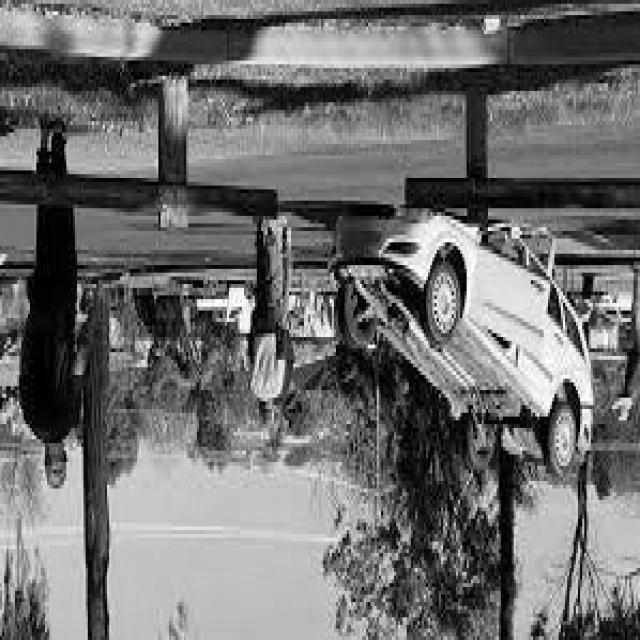severe: (327, 225, 600, 490)
